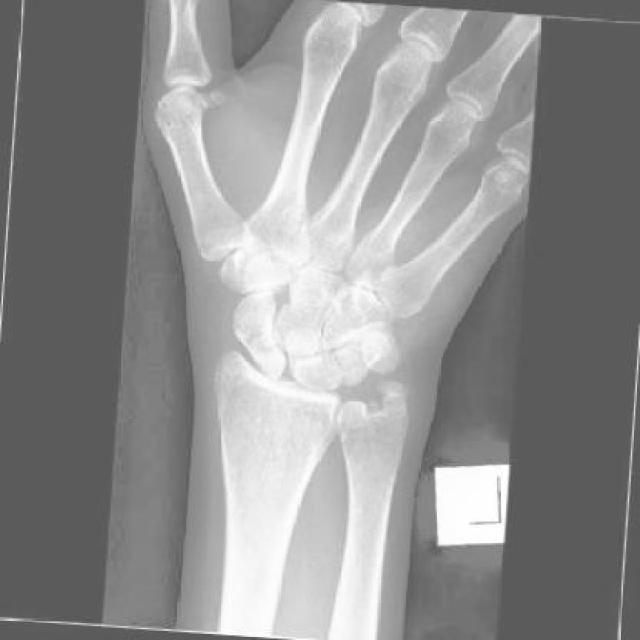Fracture: (239, 314, 284, 359)
